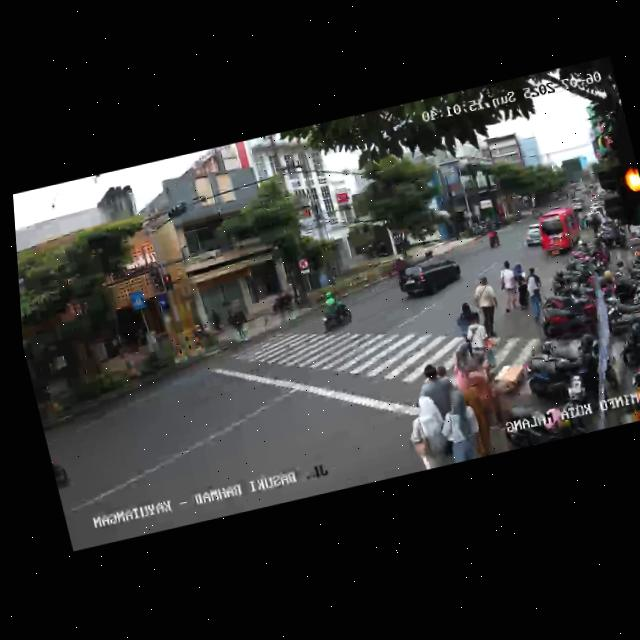car: (392, 250, 467, 305), (534, 203, 589, 258)
motorcycle: (314, 287, 356, 335), (46, 434, 73, 495), (483, 221, 501, 248)
person: (453, 366, 507, 459), (398, 391, 454, 472), (440, 392, 484, 463), (413, 361, 458, 417), (469, 274, 505, 340), (462, 310, 494, 368), (451, 299, 481, 359), (495, 258, 525, 316), (519, 263, 550, 319), (509, 260, 534, 313), (227, 300, 253, 344)
